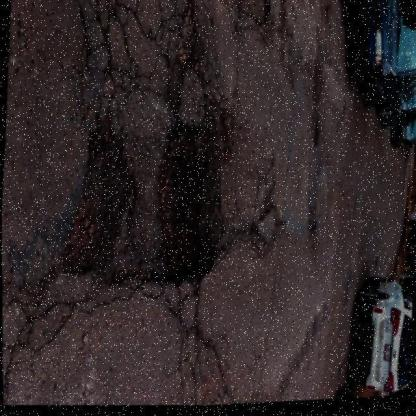pothole: (57, 116, 233, 297)
